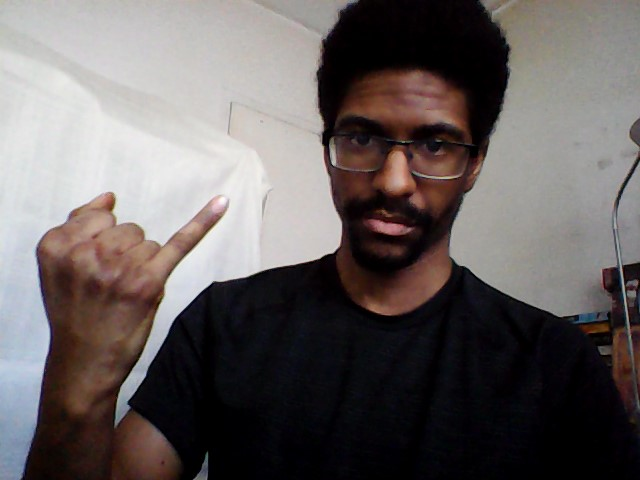j: (31, 184, 237, 391)
